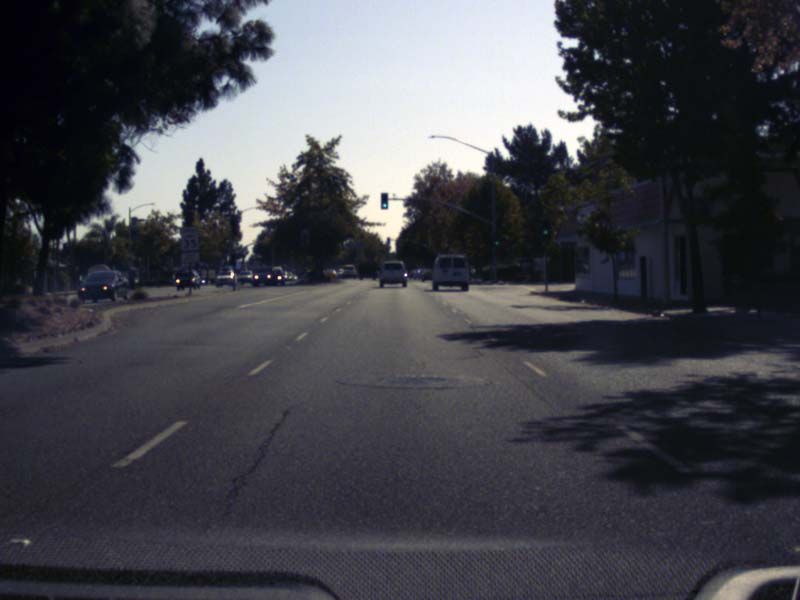Green: (539, 219, 550, 240), (493, 233, 501, 251), (381, 192, 388, 210)
